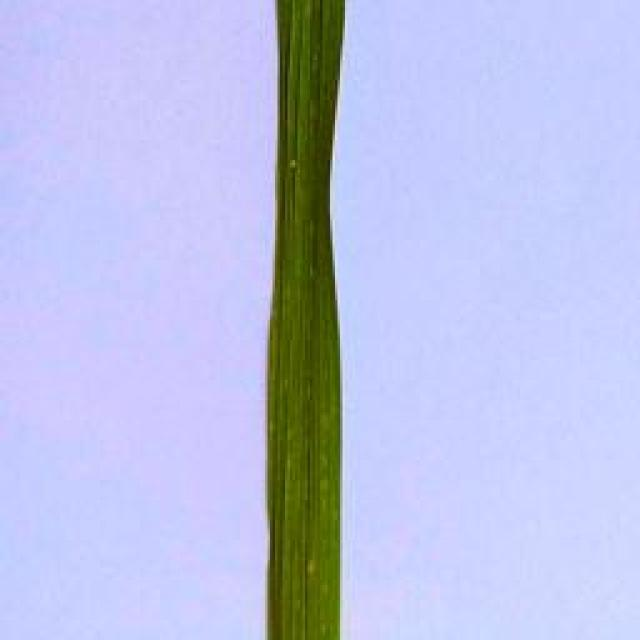Healthy-Plant: (253, 0, 358, 640)
